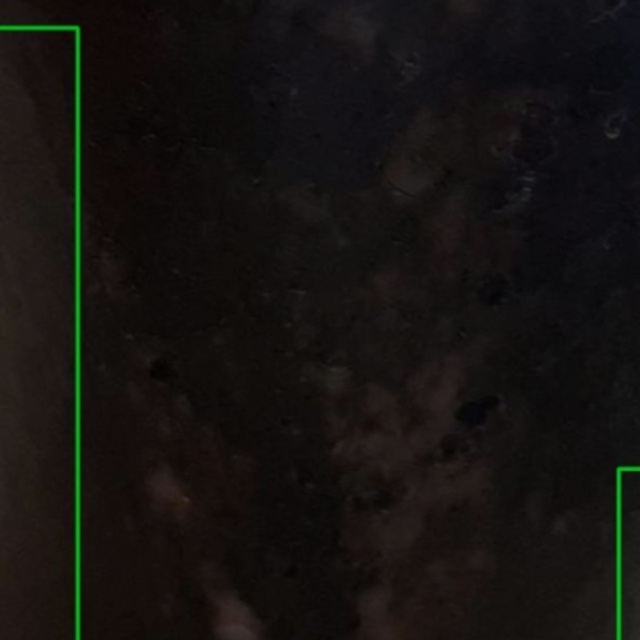Contact Dermatitis: (0, 27, 78, 639)
